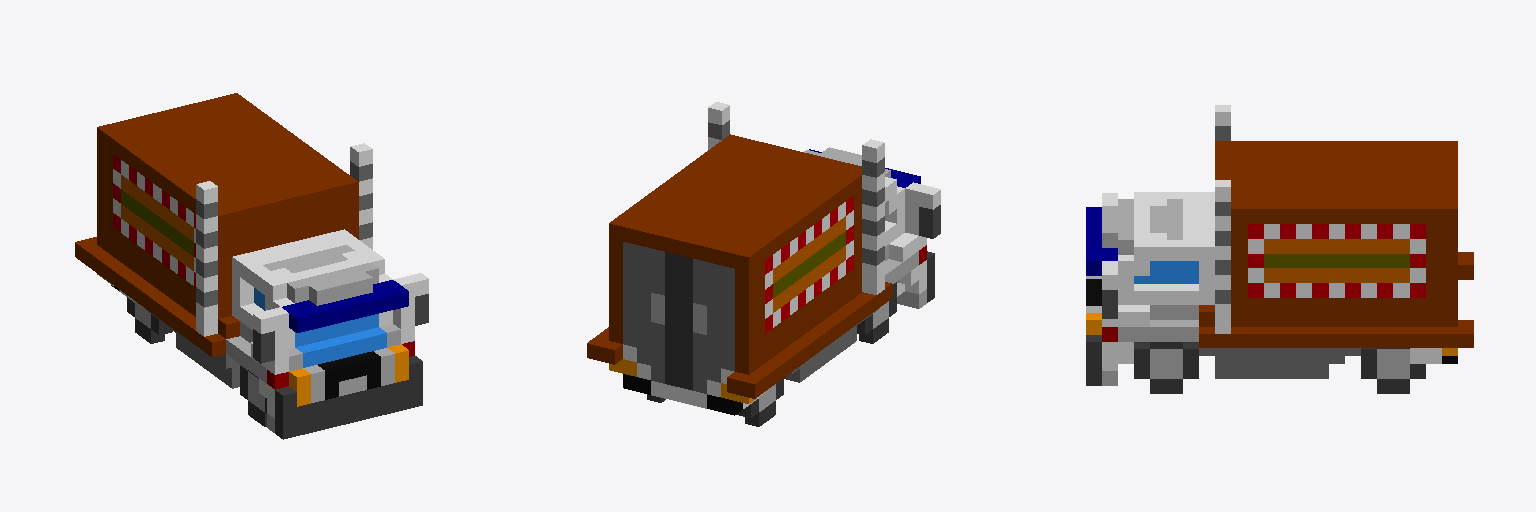
The picture shows the model from 3 angles: view 1: azimuth 30°, elevation 25°; view 2: azimuth 150°, elevation 25°; view 3: azimuth 270°, elevation 25°; orthographic projection.
Visible parts, largest first — view 1: object 1; view 2: object 1; view 3: object 1.
Boxes of the visible parts, box(x1,y1,x2,y2) form: object 1: box(75, 93, 428, 439); object 1: box(587, 102, 940, 426); object 1: box(1086, 105, 1473, 393).
Size of the model in its own units: 1.2 by 1.5 by 2.4.
Materials: 1 (1 with a texture image).